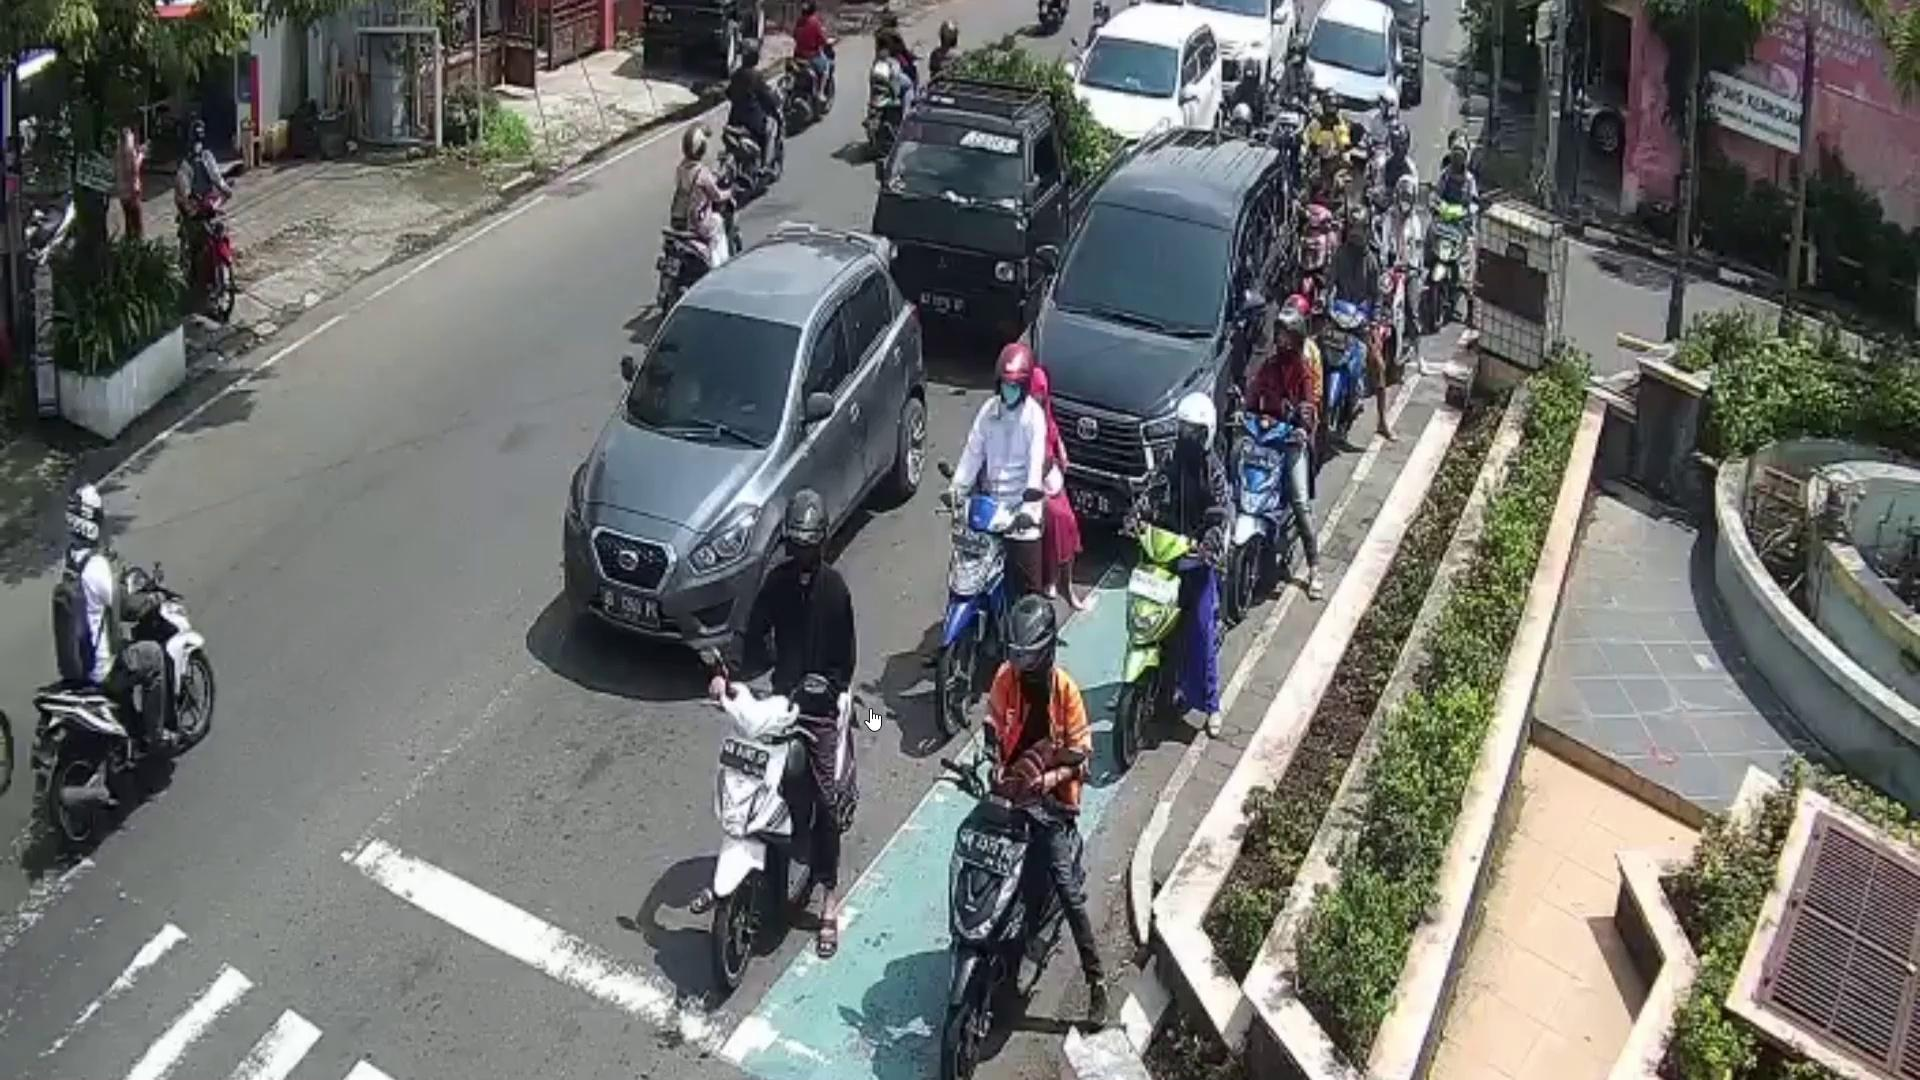car: (562, 222, 926, 663), (1022, 131, 1302, 543), (870, 71, 1127, 336), (1076, 0, 1229, 141), (1302, 0, 1406, 160), (1184, 0, 1295, 99)
motorbike: (704, 658, 869, 984), (32, 564, 215, 852), (939, 773, 1080, 1080), (1114, 517, 1197, 762), (943, 493, 1029, 725), (1229, 410, 1299, 611), (653, 190, 745, 322), (720, 87, 787, 202), (182, 182, 239, 316), (1429, 198, 1482, 315), (1325, 293, 1371, 425)
